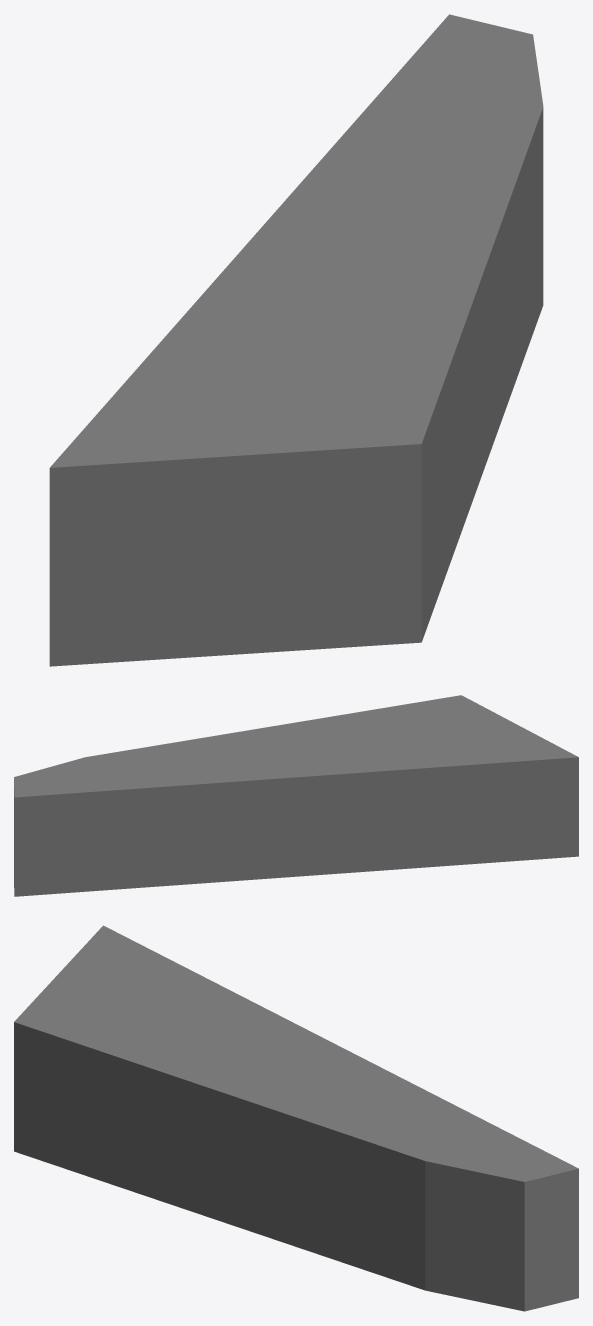
File: base_destroyed_10.glb
3 views of the same model, one above another, from view 1: azimuth 30°, elevation 25°; view 2: azimuth 150°, elevation 25°; view 3: azimuth 270°, elevation 25° (orthographic). The views are drawn at different scales.
Parts seen in each view (by area): view 1: base_destroyed_10; view 2: base_destroyed_10; view 3: base_destroyed_10.
Boxes of the visible parts, <box> form: base_destroyed_10: <box>49,14,543,666</box>; base_destroyed_10: <box>14,695,578,896</box>; base_destroyed_10: <box>14,925,578,1311</box>.
Size of the model in its own units: 0.85 by 0.2 by 0.7908.
1 material, 1 textured.
